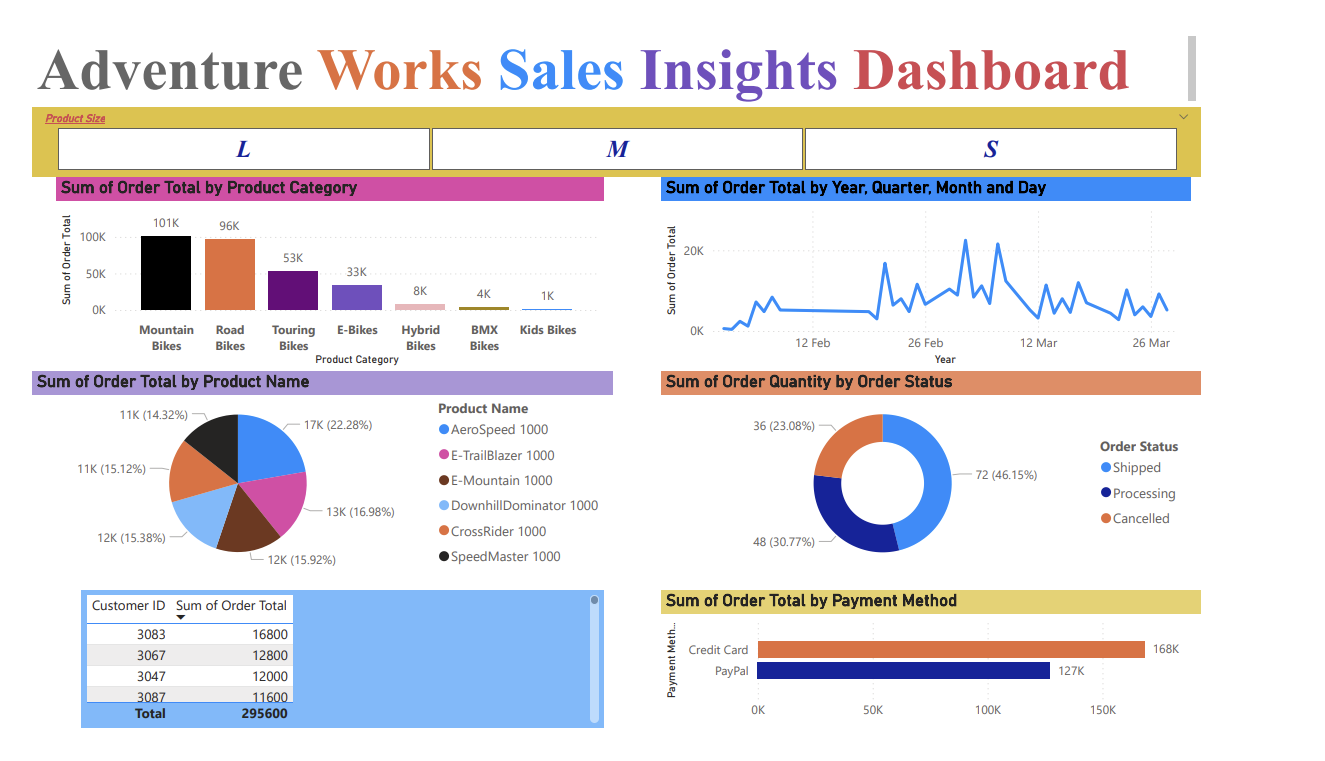

The page's visual inventory and layout, read from the dashboard file:
{"tool":"powerbi","page":{"name":"Page 1","canvas":[1280,720],"ordinal":0},"visuals":[{"type":"textbox","box":[10,0,280,280],"z":0},{"type":"textbox","box":[10,290,280,280],"z":1000},{"type":"columnChart","fields":{"Category":["AdventureWorksData.Product Category"],"Y":["Sum(AdventureWorksData.Order Total)"]},"box":[34.3,156.4,547.5,193.5],"z":2000},{"type":"lineChart","fields":{"Y":["Sum(AdventureWorksData.Order Total)"],"Category":["AdventureWorksData.Order Date.Variation.Date Hierarchy.Year","AdventureWorksData.Order Date.Variation.Date Hierarchy.Quarter","AdventureWorksData.Order Date.Variation.Date Hierarchy.Month","AdventureWorksData.Order Date.Variation.Date Hierarchy.Day"]},"box":[639.5,156.4,529.7,193.5],"z":3000},{"type":"pieChart","fields":{"Category":["AdventureWorksData.Product Name"],"Y":["Sum(AdventureWorksData.Order Total)"]},"box":[9.6,349.9,581.8,205.8],"z":4000},{"type":"clusteredBarChart","fields":{"Category":["AdventureWorksData.Payment Method"],"Y":["Sum(AdventureWorksData.Order Total)"]},"box":[639.5,569.5,539.3,137.2],"z":5000},{"type":"tableEx","fields":{"Values":["AdventureWorksData.Customer ID","Sum(AdventureWorksData.Order Total)"]},"box":[59,569.5,522.8,137.2],"z":6000},{"type":"donutChart","fields":{"Category":["AdventureWorksData.Order Status"],"Y":["Sum(AdventureWorksData.Order Quantity)"]},"box":[639.5,349.9,539.3,205.8],"z":7000},{"type":"textbox","box":[9.6,9.6,1169.1,76.8],"z":8000},{"type":"slicer","fields":{"Values":["AdventureWorksData.Product Size"]},"box":[9.6,86.4,1169.1,70],"z":9000}]}

Visuals, with their boxes in screenshot pixels (x1, y1, x2, y2), scaled from the page's 1280x720 canvas onto the 1325x761 screenshot:
textbox: rect(10, 0, 300, 296)
textbox: rect(10, 307, 300, 602)
columnChart - AdventureWorksData.Product Category x Sum(AdventureWorksData.Order Total): rect(36, 165, 602, 370)
lineChart - Sum(AdventureWorksData.Order Total) x AdventureWorksData.Order Date.Variation.Date Hierarchy.Year: rect(662, 165, 1210, 370)
pieChart - AdventureWorksData.Product Name x Sum(AdventureWorksData.Order Total): rect(10, 370, 612, 587)
clusteredBarChart - AdventureWorksData.Payment Method x Sum(AdventureWorksData.Order Total): rect(662, 602, 1220, 747)
tableEx - AdventureWorksData.Customer ID x Sum(AdventureWorksData.Order Total): rect(61, 602, 602, 747)
donutChart - AdventureWorksData.Order Status x Sum(AdventureWorksData.Order Quantity): rect(662, 370, 1220, 587)
textbox: rect(10, 10, 1220, 91)
slicer - AdventureWorksData.Product Size: rect(10, 91, 1220, 165)
